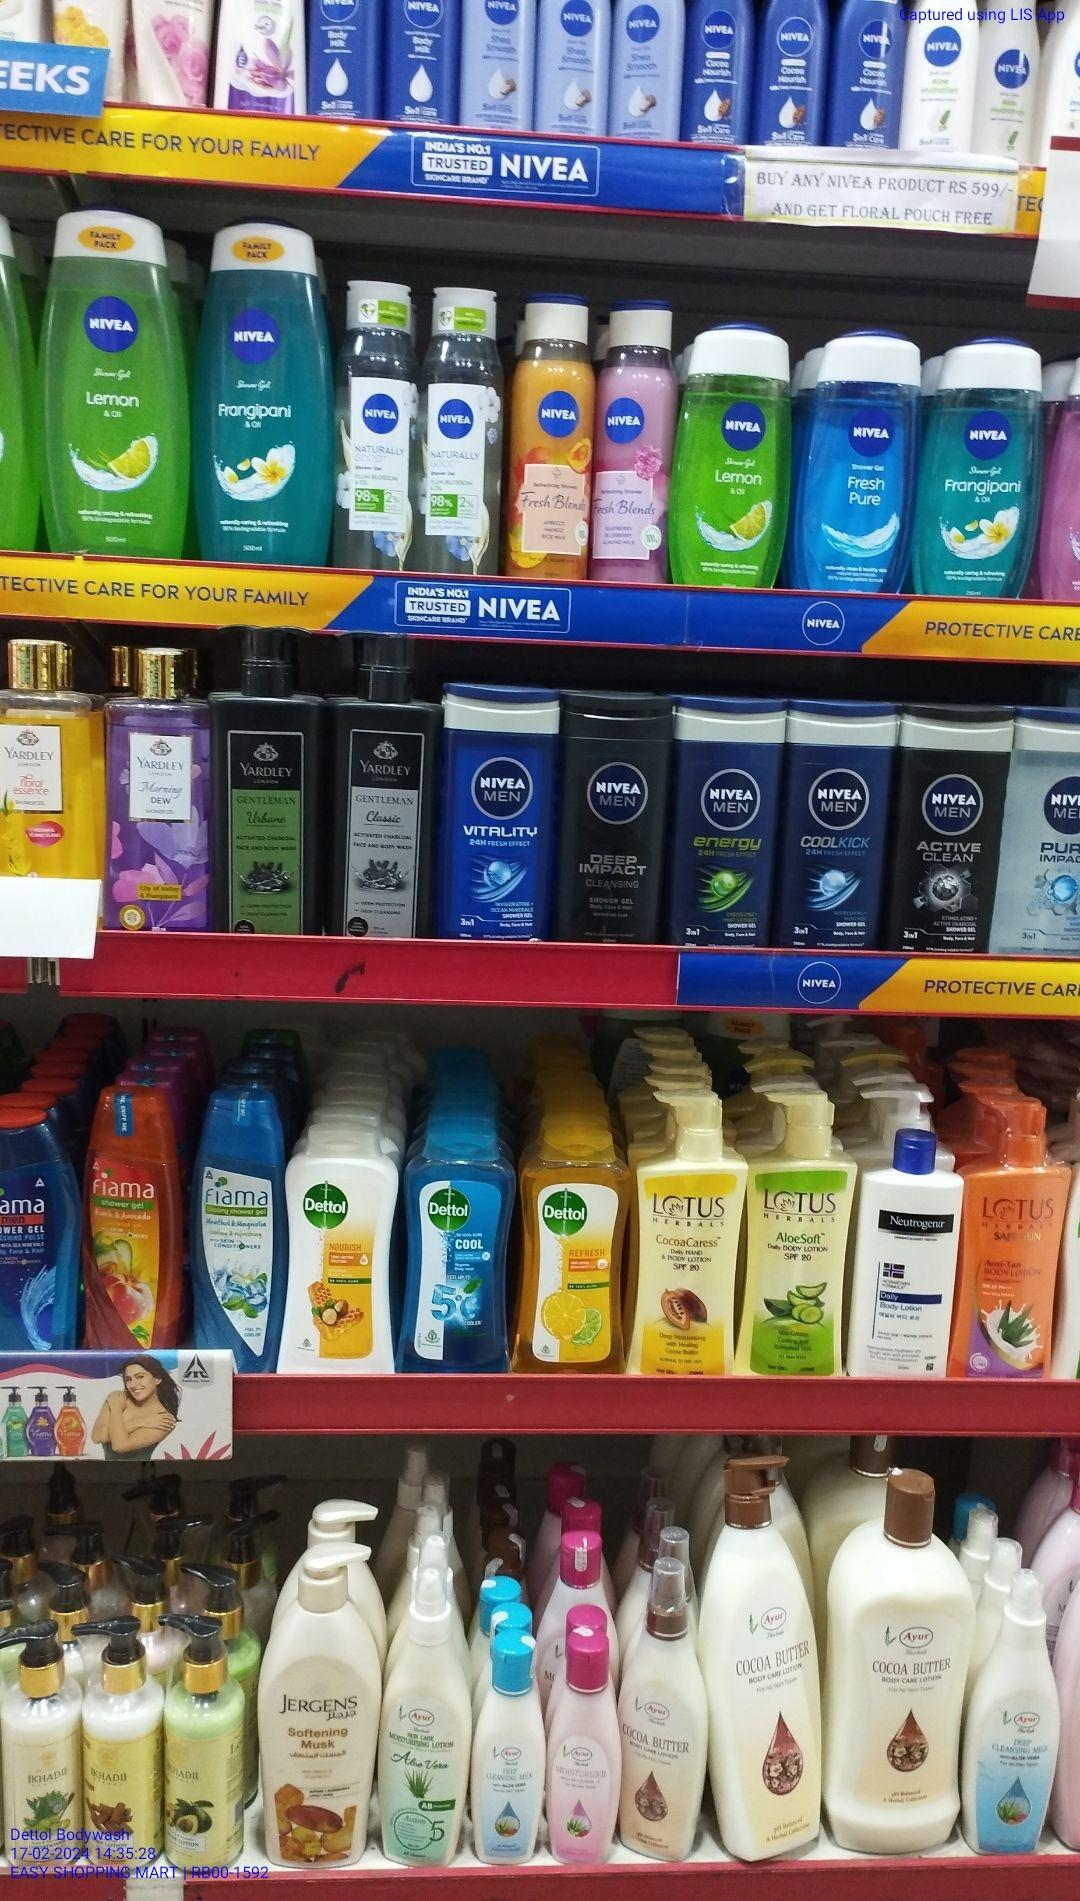Dettol_Bodywash_Cool: (410, 1139, 509, 1372)
Dettol_Bodywash_Refresh: (525, 1144, 626, 1376)
Dettol_Nourish_Body_Wash_250ML: (283, 1129, 397, 1376)
Nivea_Shower_Gel_Frangipani_and_Oil_250ML: (204, 225, 333, 555), (925, 341, 1041, 594)
Nivea_Shower_Gel_Lemon_and_Oil_250ML: (47, 208, 192, 554), (682, 322, 794, 584)
